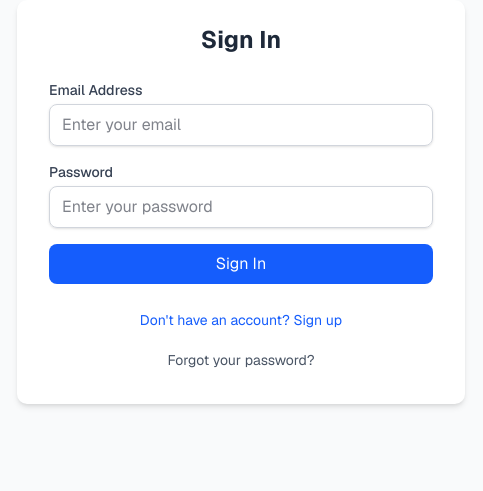
LoginForm › should display error message on login failure
The width and height of the screenshot is (483, 491).
Type "test@example.com" into the field labelled "Email Address" at (241, 125), box [49,104,433,146]
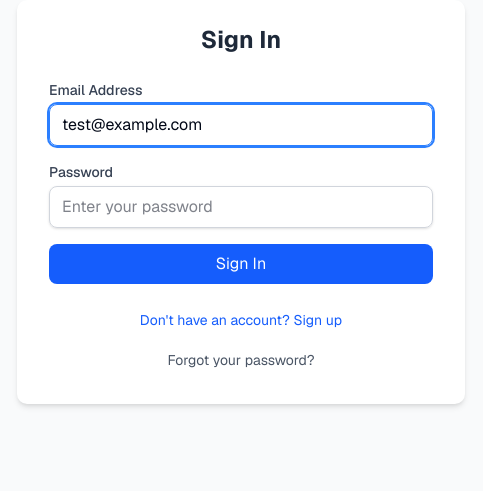
Type "wrongpassword" into the password field labelled "Password" at (241, 207), box [49,186,433,228]
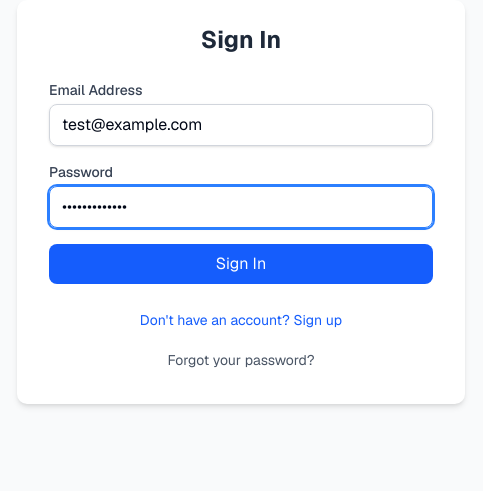
Click the button "Sign In" at (241, 264), box [49,244,433,284]
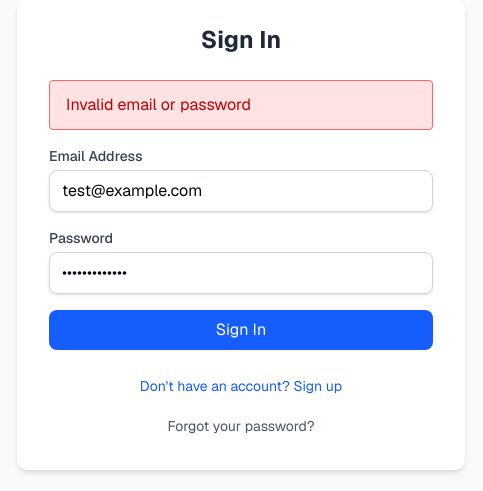
expect the text "Invalid email or password" is shown: met, box [49,80,433,130]
